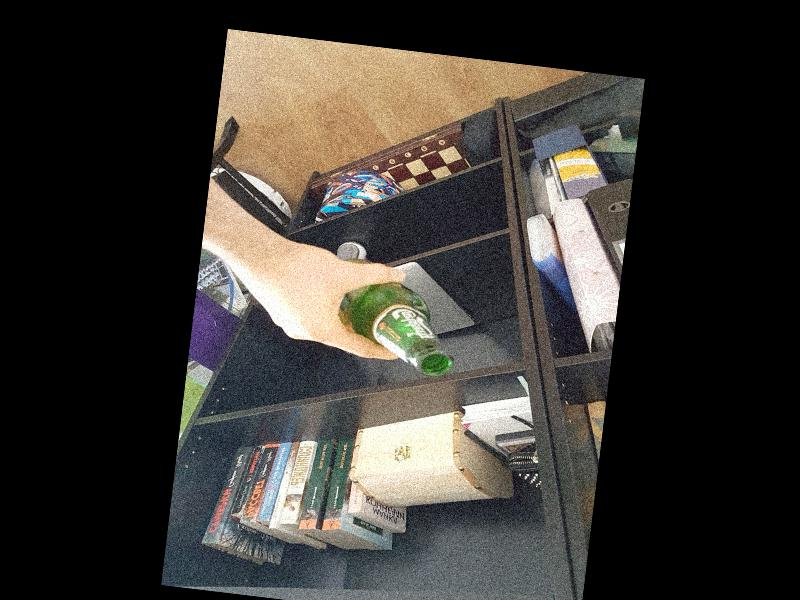Beer: (325, 255, 465, 377)
